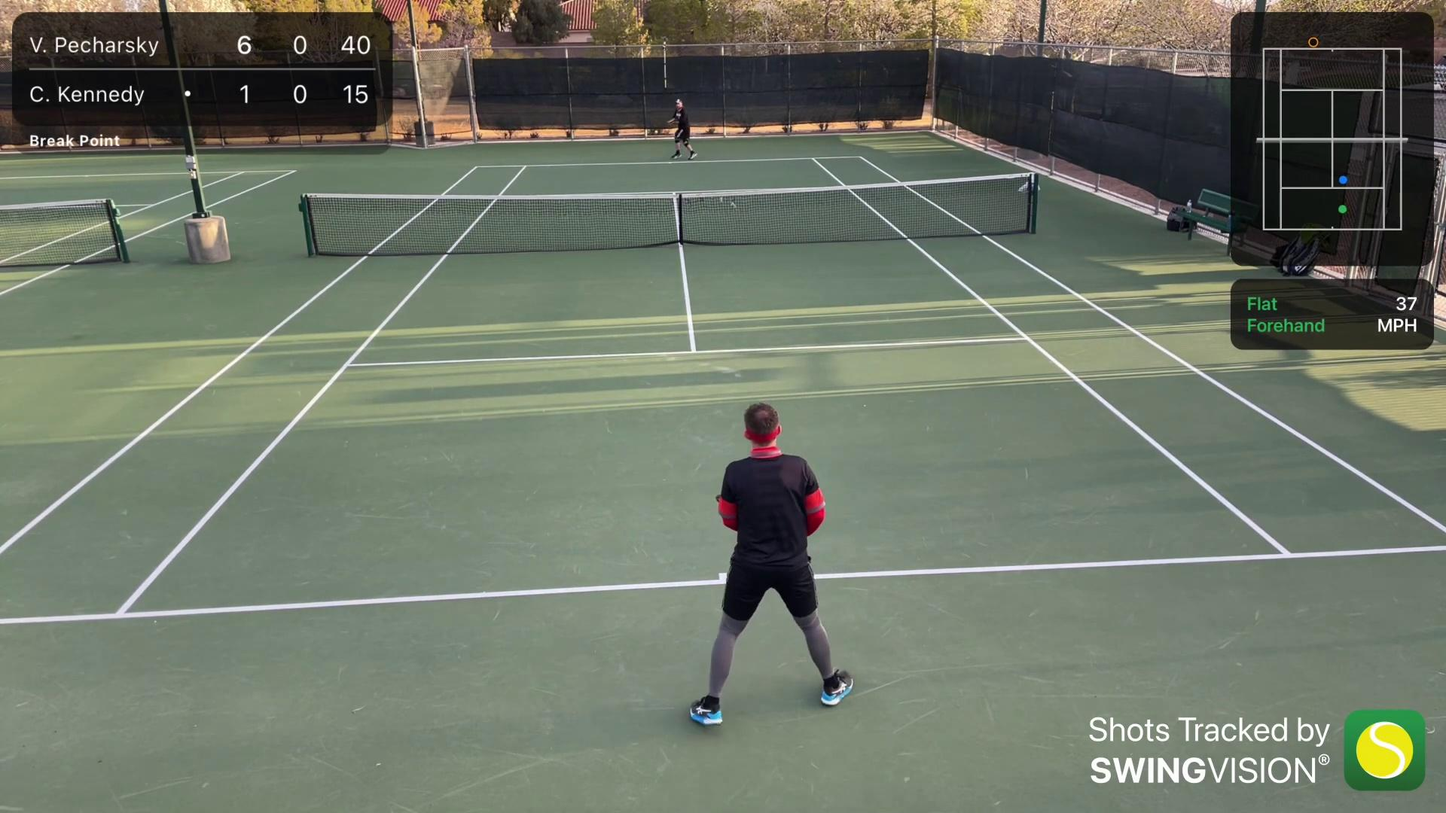ball: (653, 129, 659, 136)
